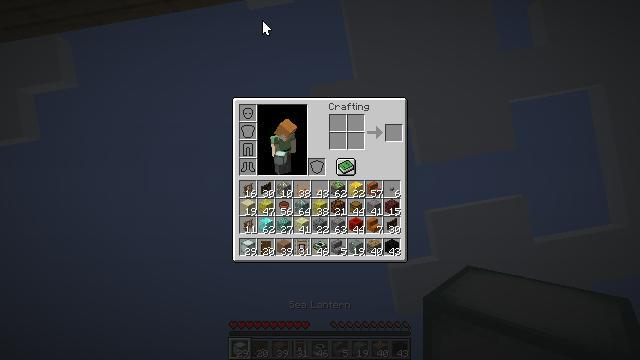cursor: (20, 262, 36, 272)
